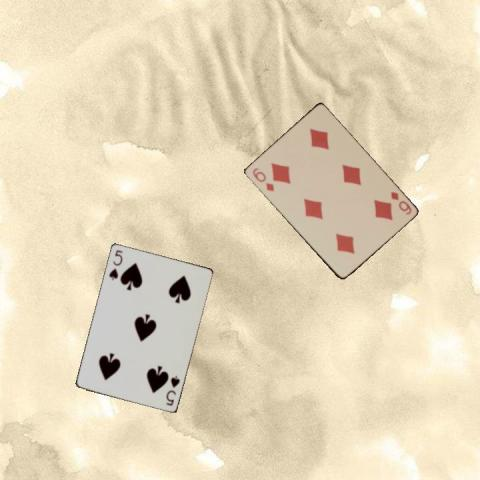5s: (163, 372, 181, 407), (106, 247, 124, 281)
6d: (250, 164, 276, 192), (387, 189, 413, 216)
